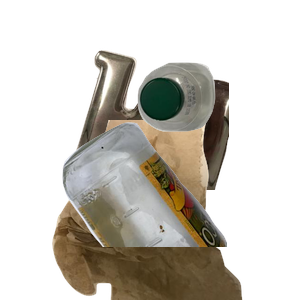glass: (60, 120, 300, 300)
metal: (60, 47, 300, 227)
plastic: (135, 60, 300, 184)
trash: (50, 120, 285, 300)
